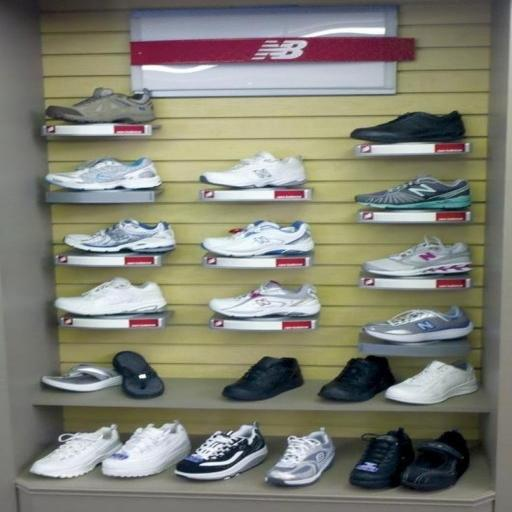shoe: (174, 422, 268, 480), (101, 421, 191, 477), (30, 424, 122, 478), (362, 236, 472, 277), (54, 278, 167, 316), (355, 174, 472, 210), (401, 430, 470, 491), (201, 220, 314, 257), (209, 281, 321, 318), (362, 306, 474, 343), (385, 360, 478, 404), (265, 428, 335, 486), (349, 427, 414, 489), (45, 157, 162, 191), (45, 88, 155, 124), (200, 151, 307, 188), (350, 110, 465, 144), (63, 219, 176, 253), (222, 356, 304, 401), (318, 355, 395, 401), (112, 350, 165, 399), (41, 363, 122, 392)
